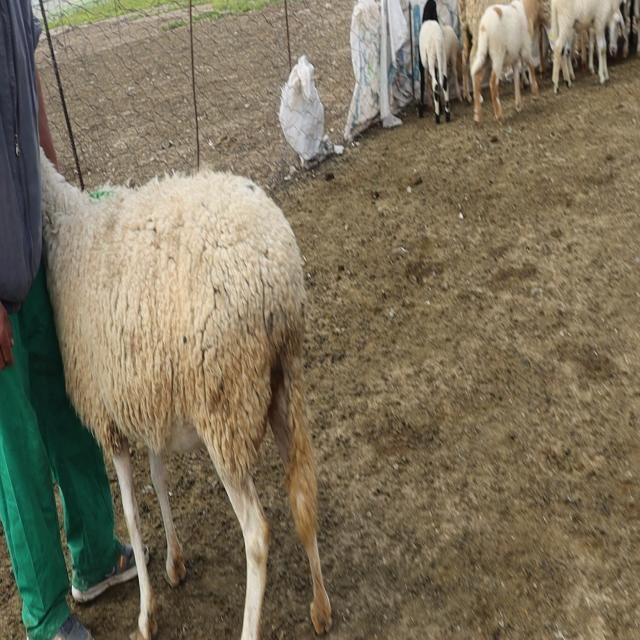Score_4: (41, 152, 331, 639)
